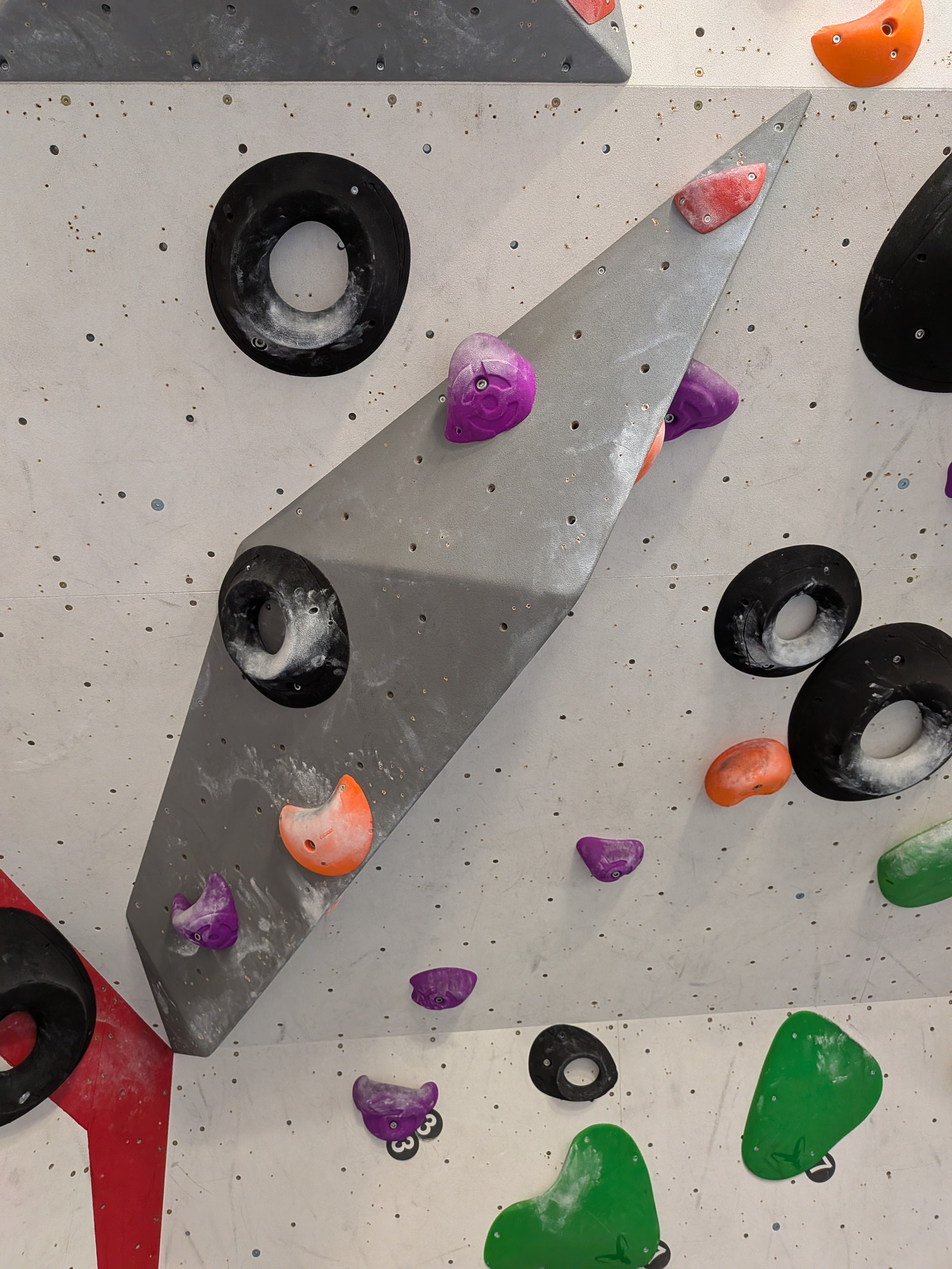hold: (204, 154, 410, 375), (792, 624, 952, 800), (485, 1125, 661, 1269), (741, 1011, 883, 1179), (863, 156, 952, 393), (217, 546, 348, 706), (0, 907, 92, 1125), (715, 546, 862, 677), (815, 0, 927, 87), (446, 335, 536, 443), (278, 776, 373, 876), (530, 1024, 618, 1101), (676, 164, 770, 232), (881, 820, 952, 907), (707, 739, 795, 806), (667, 361, 741, 438), (353, 1077, 436, 1142), (169, 875, 236, 949), (578, 837, 646, 882), (412, 969, 478, 1009), (635, 423, 665, 483), (0, 1011, 31, 1064), (571, 0, 616, 23)
volume: (123, 96, 808, 1057), (0, 0, 633, 85)
